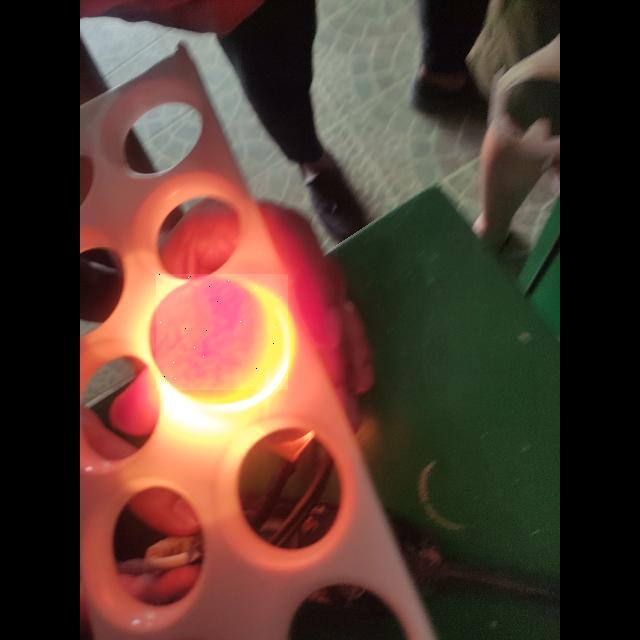Infertile: (156, 274, 288, 390)
